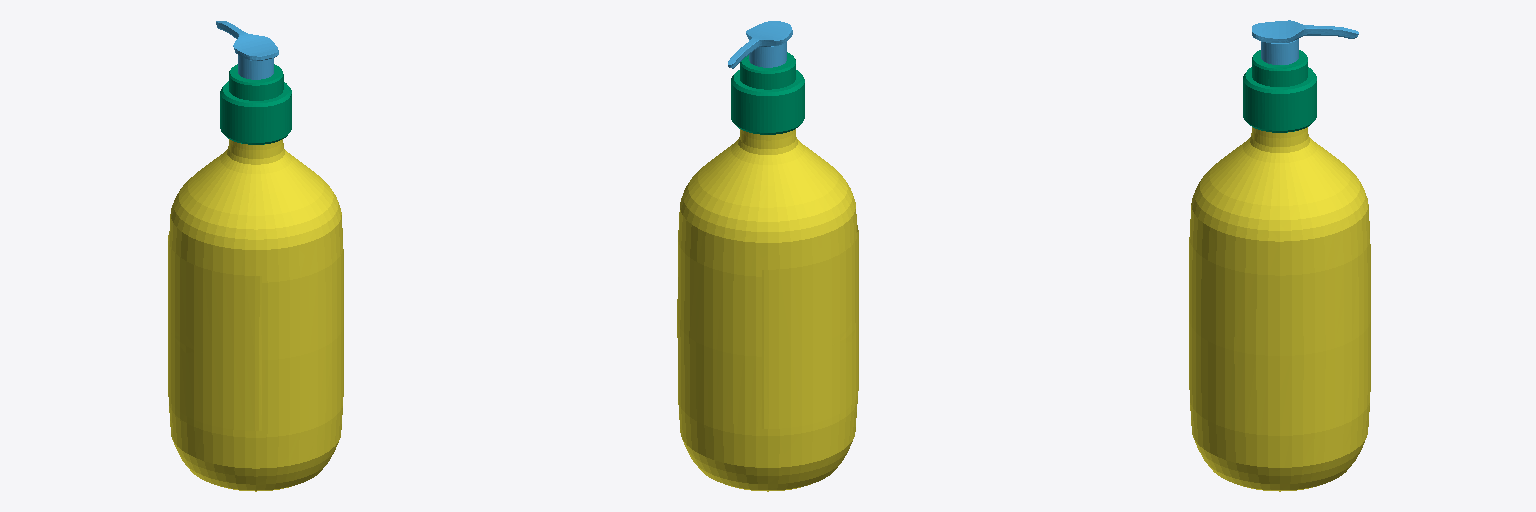
robot.urdf — partnet_a248bd23-afc1-495d-8576-762a182adb2e-2:
<?xml version="1.0" ?>
<robot name="partnet_a248bd23-afc1-495d-8576-762a182adb2e-2">
	<link name="base"/>
	<link name="link_0">
		<visual name="pressing_lid-1">
			<origin xyz="0.005842909581447499 0 0.005778784634363904"/>
			<geometry>
				<mesh filename="textured_objs/original_4.obj"/>
			</geometry>
		</visual>
		<visual name="pressing_lid-1">
			<origin xyz="0.005842909581447499 0 0.005778784634363904"/>
			<geometry>
				<mesh filename="textured_objs/original_8.obj"/>
			</geometry>
		</visual>
		<collision>
			<origin xyz="0.005842909581447499 0 0.005778784634363904"/>
			<geometry>
				<mesh filename="textured_objs/original_4.obj"/>
			</geometry>
		</collision>
		<collision>
			<origin xyz="0.005842909581447499 0 0.005778784634363904"/>
			<geometry>
				<mesh filename="textured_objs/original_8.obj"/>
			</geometry>
		</collision>
	</link>
	<joint name="joint_0" type="continuous">
		<origin xyz="0.0 0 0.0"/>
		<axis xyz="0 1 0"/>
		<child link="link_0"/>
		<parent link="link_0_helper"/>
	</joint>
	<link name="link_1">
		<visual name="head-3">
			<origin xyz="0.005779799016721349 -7.595691941485868e-07 0.005646530308564256"/>
			<geometry>
				<mesh filename="textured_objs/original_6.obj"/>
			</geometry>
		</visual>
		<visual name="head-3">
			<origin xyz="0.005779799016721349 -7.595691941485868e-07 0.005646530308564256"/>
			<geometry>
				<mesh filename="textured_objs/original_3.obj"/>
			</geometry>
		</visual>
		<collision>
			<origin xyz="0.005779799016721349 -7.595691941485868e-07 0.005646530308564256"/>
			<geometry>
				<mesh filename="textured_objs/original_6.obj"/>
			</geometry>
		</collision>
		<collision>
			<origin xyz="0.005779799016721349 -7.595691941485868e-07 0.005646530308564256"/>
			<geometry>
				<mesh filename="textured_objs/original_3.obj"/>
			</geometry>
		</collision>
	</link>
	<joint name="joint_1" type="continuous">
		<origin xyz="0.0 0.0 0.0"/>
		<axis xyz="0.00019159899488915299 0.9999999797475426 -6.160145748555619e-05"/>
		<child link="link_1"/>
		<parent link="link_1_helper"/>
	</joint>
	<link name="link_2">
		<visual name="base_body-4">
			<origin xyz="0 0 0"/>
			<geometry>
				<mesh filename="textured_objs/original_16.obj"/>
			</geometry>
		</visual>
		<visual name="base_body-4">
			<origin xyz="0 0 0"/>
			<geometry>
				<mesh filename="textured_objs/original_13.obj"/>
			</geometry>
		</visual>
		<visual name="base_body-4">
			<origin xyz="0 0 0"/>
			<geometry>
				<mesh filename="textured_objs/original_15.obj"/>
			</geometry>
		</visual>
		<visual name="base_body-4">
			<origin xyz="0 0 0"/>
			<geometry>
				<mesh filename="textured_objs/original_11.obj"/>
			</geometry>
		</visual>
		<visual name="base_body-4">
			<origin xyz="0 0 0"/>
			<geometry>
				<mesh filename="textured_objs/original_12.obj"/>
			</geometry>
		</visual>
		<visual name="base_body-4">
			<origin xyz="0 0 0"/>
			<geometry>
				<mesh filename="textured_objs/original_7.obj"/>
			</geometry>
		</visual>
		<visual name="base_body-4">
			<origin xyz="0 0 0"/>
			<geometry>
				<mesh filename="textured_objs/original_10.obj"/>
			</geometry>
		</visual>
		<collision>
			<origin xyz="0 0 0"/>
			<geometry>
				<mesh filename="textured_objs/original_16.obj"/>
			</geometry>
		</collision>
		<collision>
			<origin xyz="0 0 0"/>
			<geometry>
				<mesh filename="textured_objs/original_13.obj"/>
			</geometry>
		</collision>
		<collision>
			<origin xyz="0 0 0"/>
			<geometry>
				<mesh filename="textured_objs/original_15.obj"/>
			</geometry>
		</collision>
		<collision>
			<origin xyz="0 0 0"/>
			<geometry>
				<mesh filename="textured_objs/original_11.obj"/>
			</geometry>
		</collision>
		<collision>
			<origin xyz="0 0 0"/>
			<geometry>
				<mesh filename="textured_objs/original_12.obj"/>
			</geometry>
		</collision>
		<collision>
			<origin xyz="0 0 0"/>
			<geometry>
				<mesh filename="textured_objs/original_7.obj"/>
			</geometry>
		</collision>
		<collision>
			<origin xyz="0 0 0"/>
			<geometry>
				<mesh filename="textured_objs/original_10.obj"/>
			</geometry>
		</collision>
	</link>
	<joint name="joint_2" type="fixed">
		<origin rpy="1.570796326794897 0 -1.570796326794897" xyz="0 0 0"/>
		<child link="link_2"/>
		<parent link="base"/>
	</joint>
	<link name="link_0_helper">
		<inertial>
			<origin xyz="0 0 0"/>
			<mass value="1e-6"/>
			<inertia ixx="1e-10" ixy="0" ixz="0" iyy="1e-10" iyz="0" izz="1e-10"/>
		</inertial>
	</link>
	<joint name="joint_3" type="prismatic">
		<origin xyz="-6.31105647261503e-05 -7.595691941485868e-07 -0.00013225432579964773"/>
		<axis xyz="0 -1 0"/>
		<child link="link_0_helper"/>
		<parent link="link_1"/>
		<limit lower="0" upper="0.07"/>
	</joint>
	<link name="link_1_helper">
		<inertial>
			<origin xyz="0 0 0"/>
			<mass value="1e-6"/>
			<inertia ixx="1e-10" ixy="0" ixz="0" iyy="1e-10" iyz="0" izz="1e-10"/>
		</inertial>
	</link>
	<joint name="joint_4" type="prismatic">
		<origin xyz="-0.005779799016721349 7.595691941485868e-07 -0.005646530308564256"/>
		<axis xyz="0.00019159899488915299 0.9999999797475426 -6.160145748555619e-05"/>
		<child link="link_1_helper"/>
		<parent link="link_2"/>
		<limit lower="0" upper="0.16000000000000014"/>
	</joint>
</robot>

--- Facts derived from the render (not from the file) ---
3 views of the same robot in one strip: view 1: azimuth 30°, elevation 25°; view 2: azimuth 150°, elevation 25°; view 3: azimuth 270°, elevation 25° (orthographic).
Model partnet_a248bd23-afc1-495d-8576-762a182adb2e-2 with 6 links and 5 joints (2 continuous, 2 prismatic, 1 fixed), rooted at base, posed all joints at 0.
Links seen in each view (by area): view 1: link_2, link_1, link_0; view 2: link_2, link_1, link_0; view 3: link_2, link_1, link_0.
Link boxes in pixels (box(x1,y1,x2,y2)): link_2: box(168, 139, 343, 491); link_1: box(220, 64, 291, 144); link_0: box(216, 21, 278, 79); link_2: box(677, 129, 858, 491); link_1: box(731, 52, 804, 134); link_0: box(728, 21, 792, 68); link_2: box(1189, 127, 1370, 491); link_1: box(1243, 50, 1316, 132); link_0: box(1252, 20, 1358, 64).
Size in the robot's own frame: 0.6224 by 0.6224 by 1.67 metres.
Meshes: 11 distinct files referenced, 11 mesh visuals loaded (11 OBJ).
